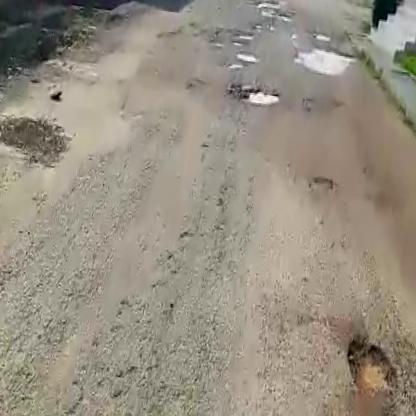pothole: (345, 336, 399, 401), (292, 43, 352, 77), (235, 82, 284, 111), (228, 51, 257, 66)
